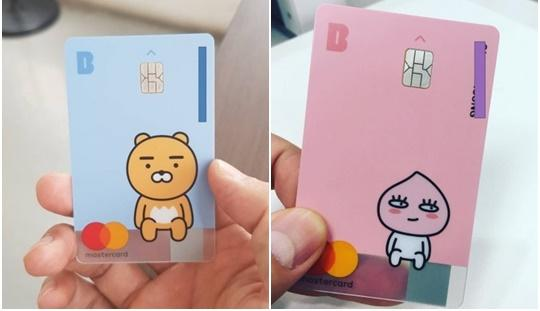Credit_card: (291, 6, 500, 309), (66, 33, 217, 263)
